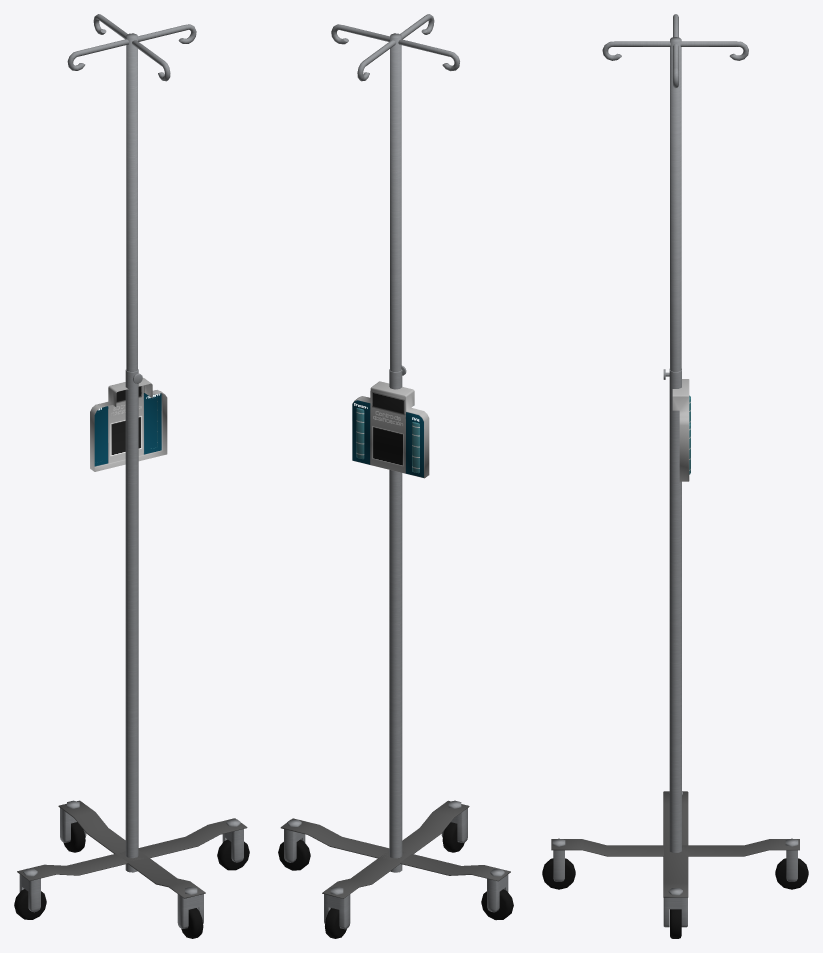
File: Tx_AtrilV2_Sm.fbx
3 views of the same model, side by side, from view 1: azimuth 30°, elevation 25°; view 2: azimuth 150°, elevation 25°; view 3: azimuth 270°, elevation 25° (orthographic).
Parts seen in each view (by area): view 1: Barra_central_Sm, Bara_superior_Sm, Panel_Sm; view 2: Barra_central_Sm, Panel_Sm, Bara_superior_Sm; view 3: Barra_central_Sm, Bara_superior_Sm, Panel_Sm.
Part boxes in pixels (x1=…): Barra_central_Sm: x1=14, y1=369, x2=249, y2=938; Bara_superior_Sm: x1=67, y1=14, x2=196, y2=371; Panel_Sm: x1=90, y1=378, x2=167, y2=471; Barra_central_Sm: x1=278, y1=365, x2=513, y2=938; Panel_Sm: x1=352, y1=381, x2=429, y2=478; Bara_superior_Sm: x1=331, y1=14, x2=459, y2=371; Barra_central_Sm: x1=542, y1=369, x2=808, y2=938; Bara_superior_Sm: x1=602, y1=14, x2=748, y2=371; Panel_Sm: x1=672, y1=379, x2=690, y2=481.
Size of the model in its own units: 52.89 by 187 by 53.11.
1 material, 1 textured.
